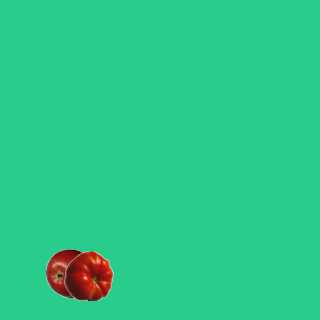Apple Braeburn: (45, 248, 95, 298)
Tomato 3: (63, 250, 113, 300)
